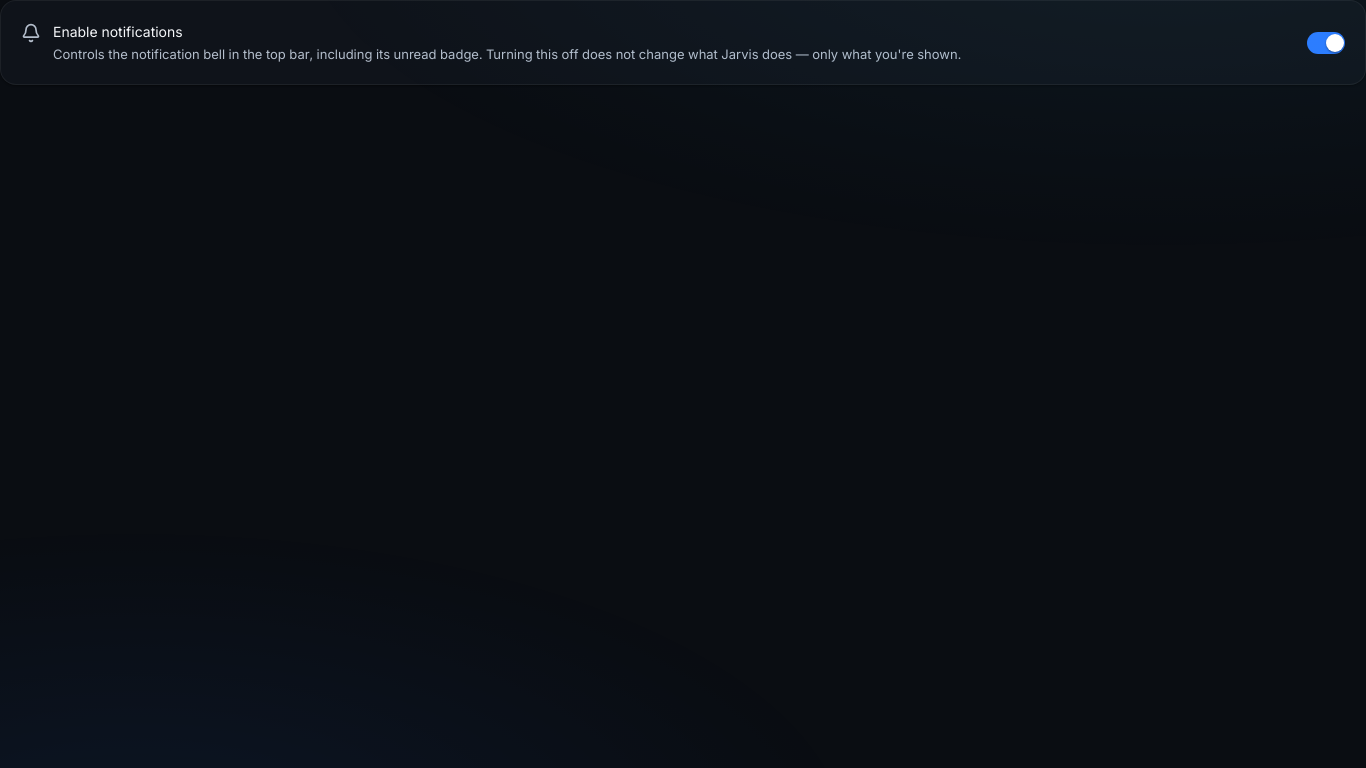
Scenario: NotificationsSection async states › shows a spinner while a toggle is saving, then the updated switch once resolved
The image size is (1366, 768).
Later steps or results of the test are not shown.
Click the switch with test id "settings-notifications-toggle" at (1326,43), box [1307,32,1345,54]
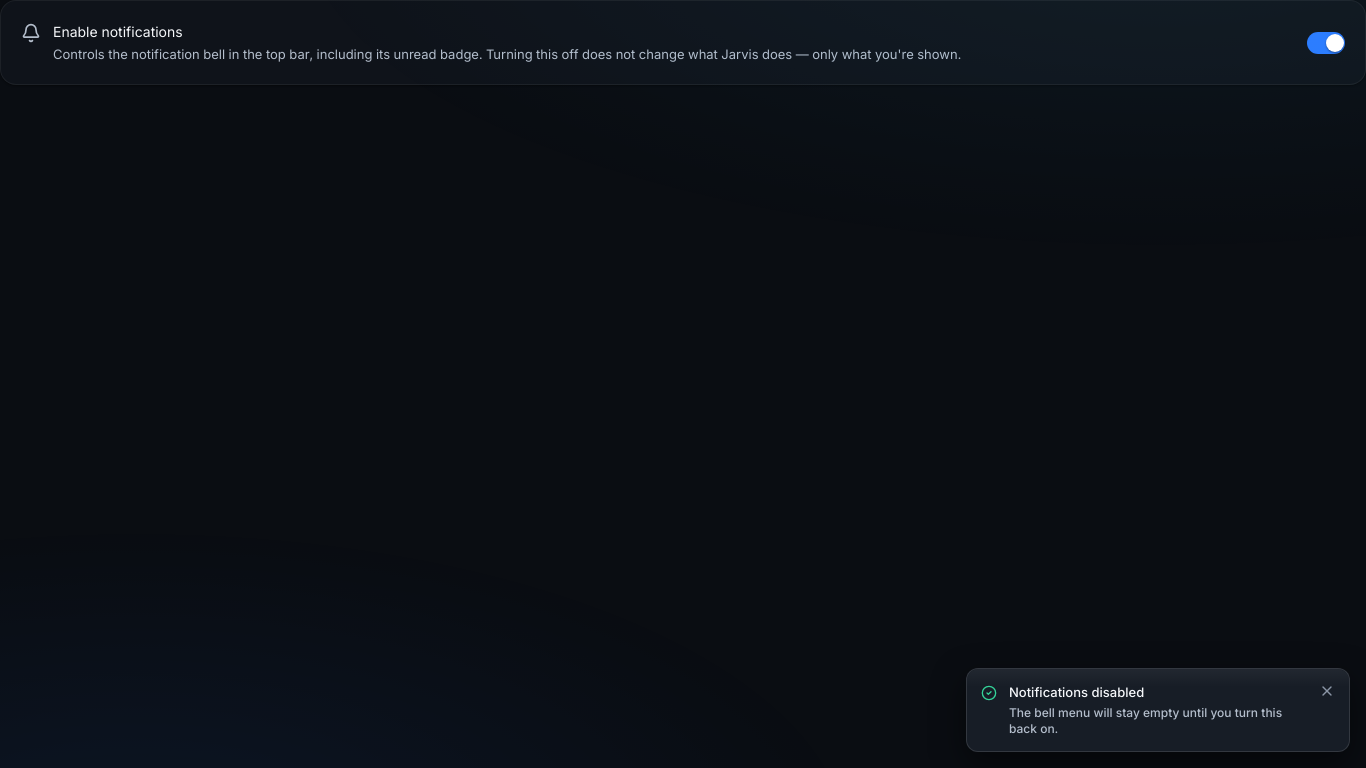
Expected: the text "Notifications disabled" is shown, [1009,684,1144,700]
